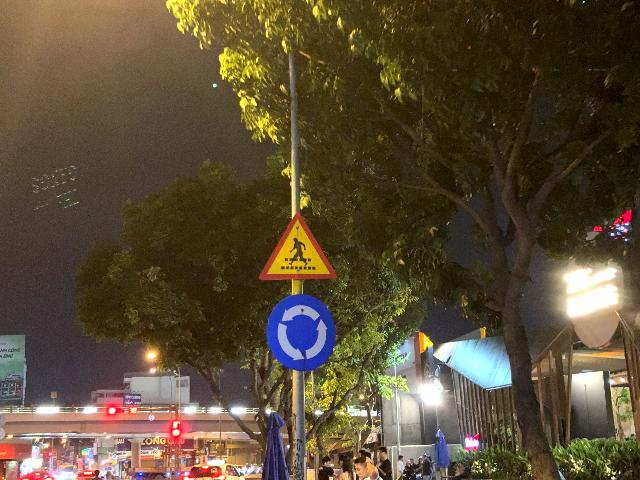duong-nguoi-di-bo-cat-ngang: (260, 211, 337, 280)
noi-giao-nhau-chay-theo-vong-xuyen: (266, 294, 337, 372)
